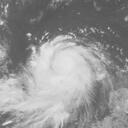cyclone: (25, 34, 107, 111)
